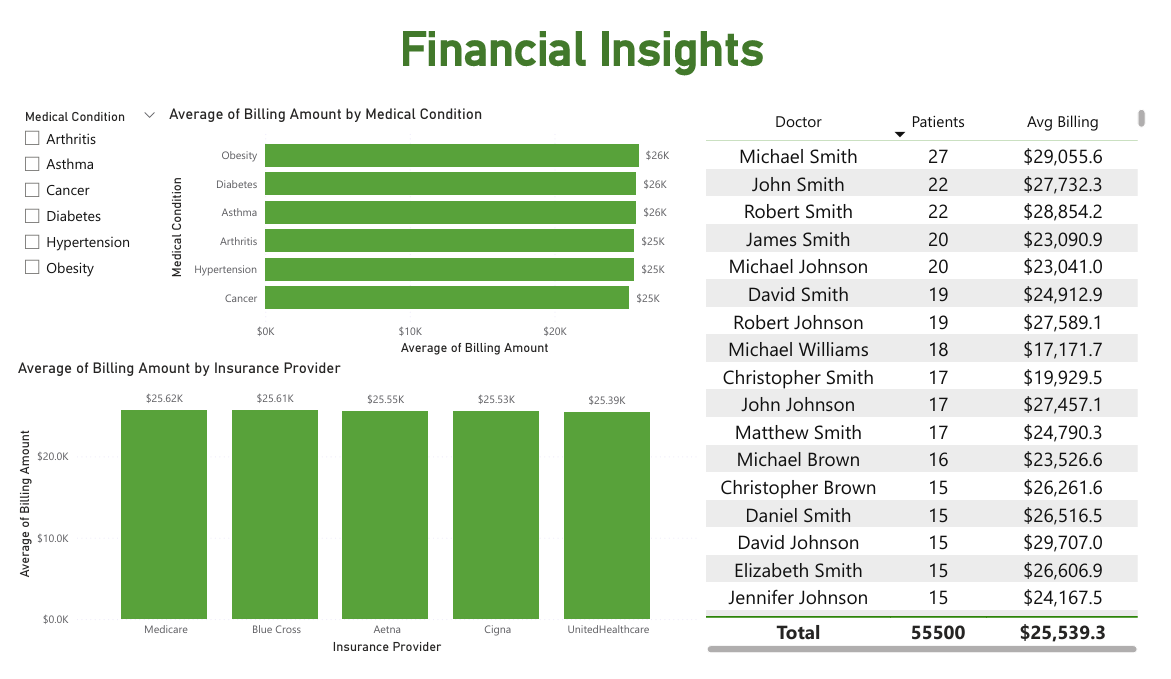

The dashboard page shown, as its layout file describes it:
{"tool":"powerbi","page":{"name":"Financial Analysis","canvas":[1280,720],"ordinal":1},"visuals":[{"type":"barChart","fields":{"Category":["healthcare_analysis patients.Medical Condition"],"Y":["Avg(healthcare_analysis patients.Billing Amount)"]},"box":[170.1,98.3,602.8,285.4],"z":0},{"type":"clusteredColumnChart","fields":{"Category":["healthcare_analysis patients.Insurance Provider"],"Y":["Avg(healthcare_analysis patients.Billing Amount)"]},"box":[0,383.6,772.9,336.4],"z":1000},{"type":"tableEx","fields":{"Values":["healthcare_analysis patients.Doctor","healthcare_analysis patients.Name","healthcare_analysis patients.Avg Billing"]},"box":[772.9,98.3,504.6,621.7],"z":2000},{"type":"slicer","fields":{"Values":["healthcare_analysis patients.Medical Condition"]},"box":[0,98.3,172,285.4],"z":3000},{"type":"textbox","box":[0,0,1279.4,98.3],"z":4000}]}

Visuals, with their boxes in screenshot pixels (x1, y1, x2, y2), scaled from the page's 1280x720 canvas onto the 1171x679 screenshot:
barChart - healthcare_analysis patients.Medical Condition x Avg(healthcare_analysis patients.Billing Amount): 156 93 707 362
clusteredColumnChart - healthcare_analysis patients.Insurance Provider x Avg(healthcare_analysis patients.Billing Amount): 0 362 707 678
tableEx - healthcare_analysis patients.Doctor x healthcare_analysis patients.Name: 707 93 1169 678
slicer - healthcare_analysis patients.Medical Condition: 0 93 157 362
textbox: 0 0 1170 93
